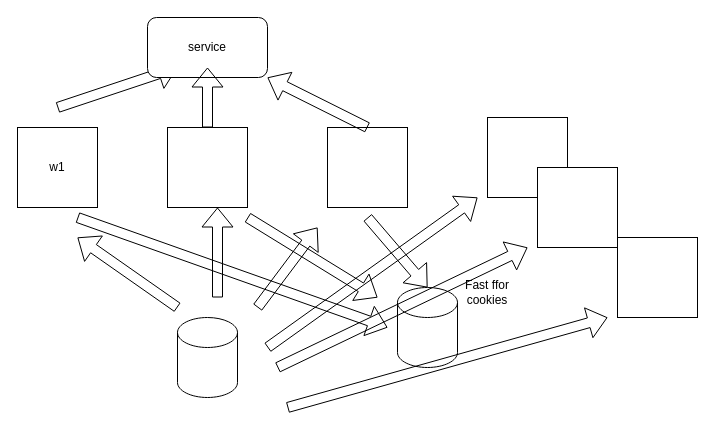
This 715x430 diagram has some shape labels left out. The centre of each missing label's shape, as x and y in pixels:
w2: (207,167)
w3: (367,167)
